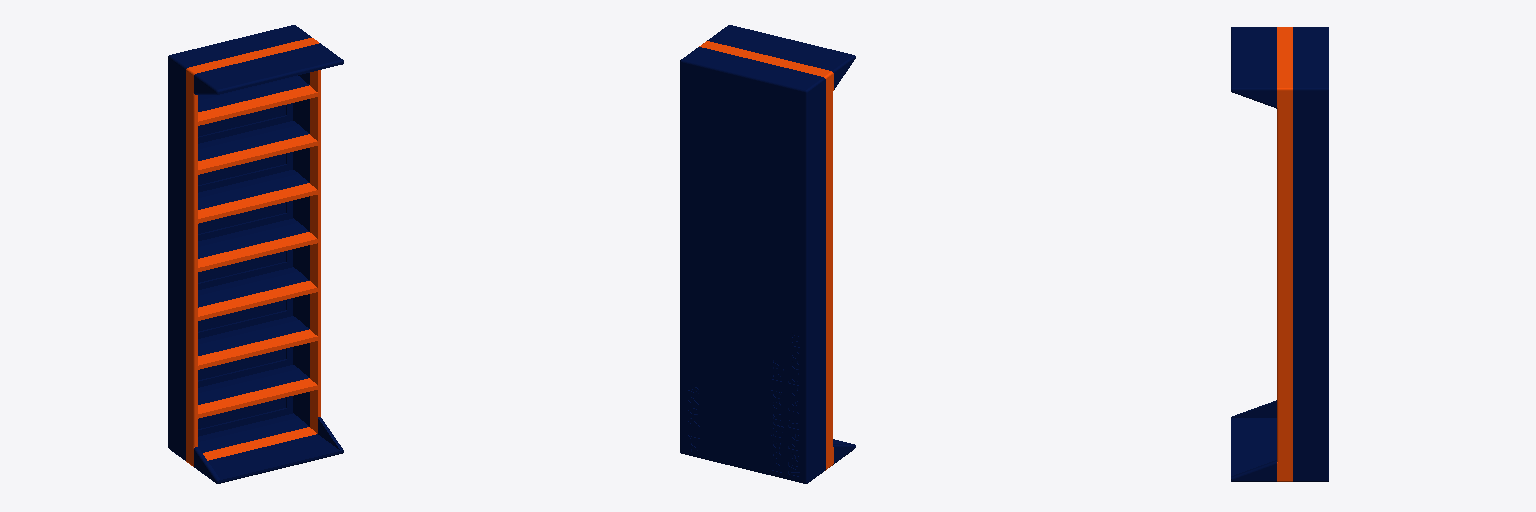
File: MatchboxRack.obj
3 renders of one model, left to right at view 1: azimuth 30°, elevation 25°; view 2: azimuth 150°, elevation 25°; view 3: azimuth 270°, elevation 25°, orthographic.
Visible parts, largest first — view 1: Body20, Body21, Body6, Body4; view 2: Body20, Body21, Body4; view 3: Body20, Body21, Body6, Body4.
Boxes of the visible parts, <box> form: Body20: <box>168,25,311,460</box>; Body21: <box>186,38,320,466</box>; Body6: <box>194,417,343,483</box>; Body4: <box>194,43,343,94</box>; Body20: <box>680,47,825,483</box>; Body21: <box>699,41,833,470</box>; Body4: <box>707,25,855,89</box>; Body20: <box>1293,27,1328,481</box>; Body21: <box>1277,27,1292,481</box>; Body6: <box>1231,400,1276,481</box>; Body4: <box>1231,27,1276,108</box>.
Bounding box in the file's own units: 64.1 × 191 × 43.